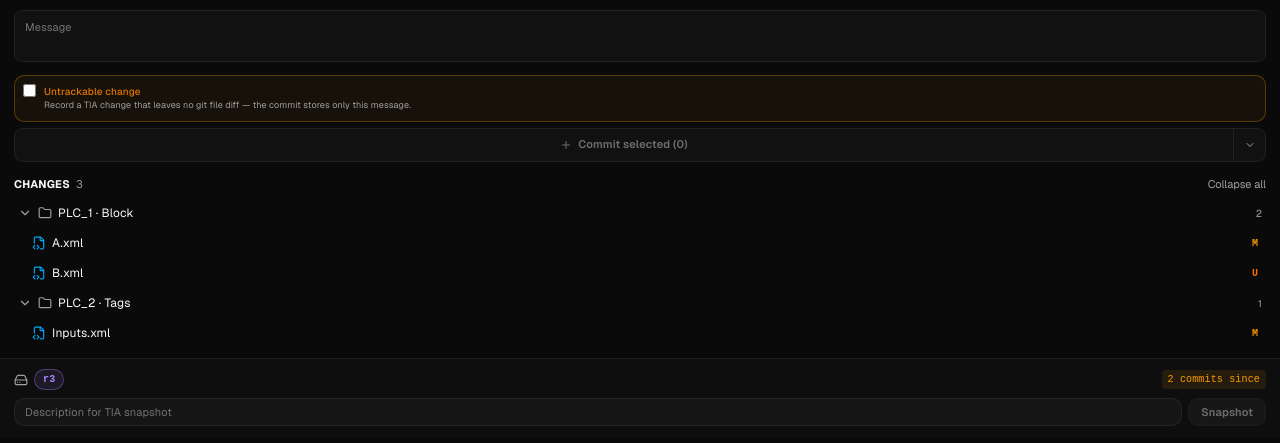
it: VersionControlChanges › groups PLC objects into collapsible folders and selects rows on click
Click the button with test id "plc-source-row" showing "A.xml M": (39, 243) 24,228 -> 1270,258
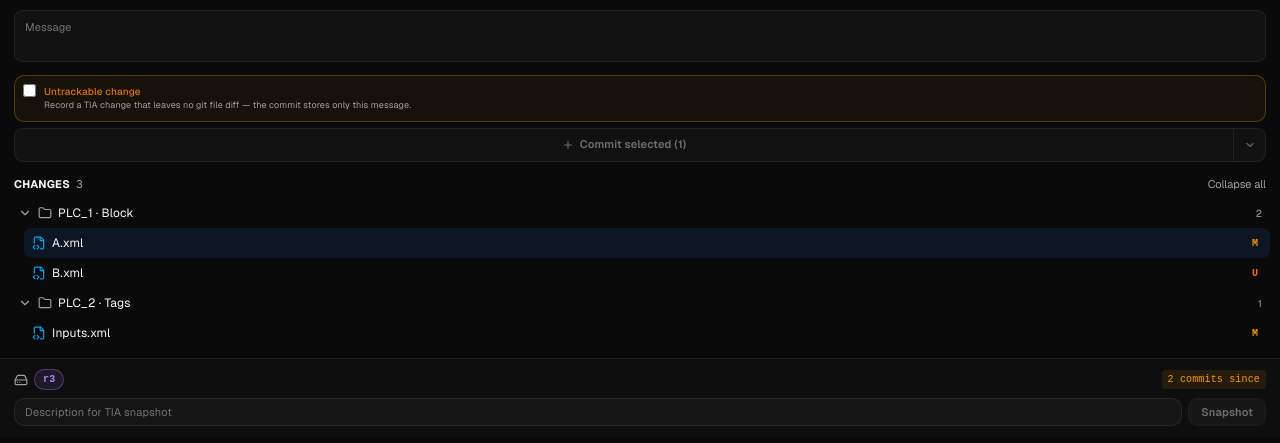
Check: the text "Commit selected (1)" is shown, box 15,128 -> 1233,160
